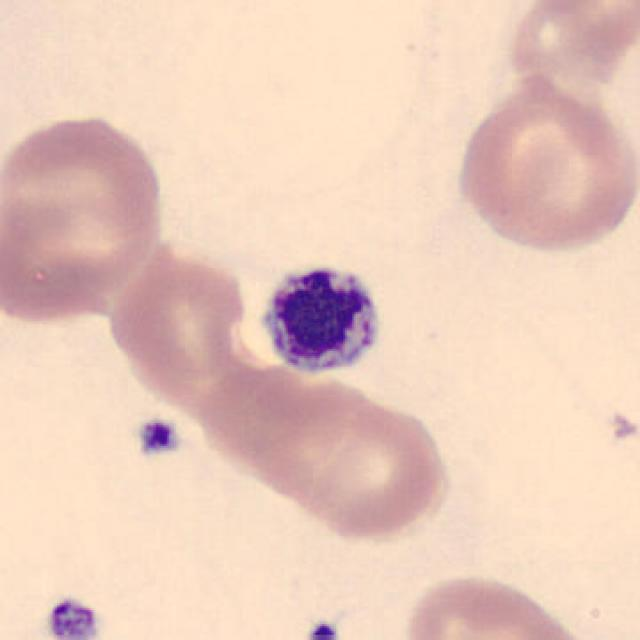Lymphocyte: (247, 252, 393, 386)
Platelets: (43, 594, 105, 640), (132, 414, 182, 460), (302, 617, 343, 640)
RBC: (0, 106, 171, 326), (450, 72, 634, 259), (272, 382, 455, 546), (103, 238, 256, 400), (397, 569, 599, 640), (501, 0, 639, 93)
